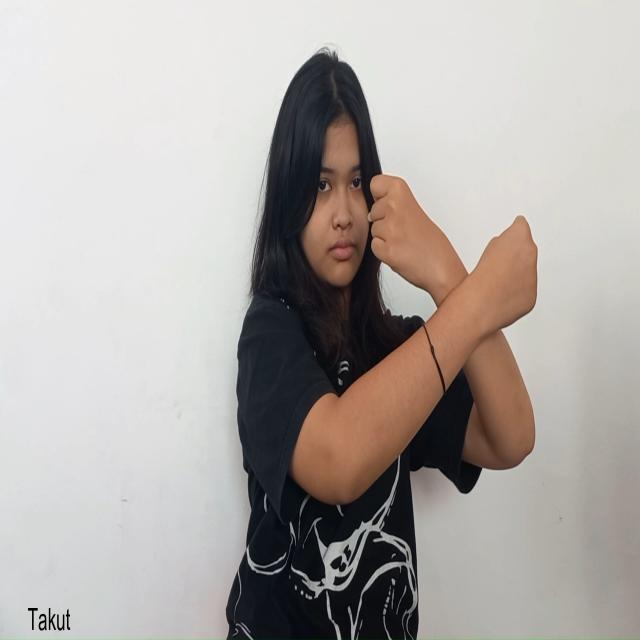Takut -BISINDO-: (365, 172, 539, 357)
